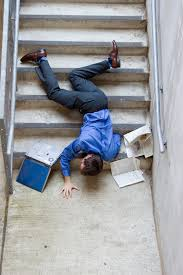falling: (18, 39, 124, 201)
